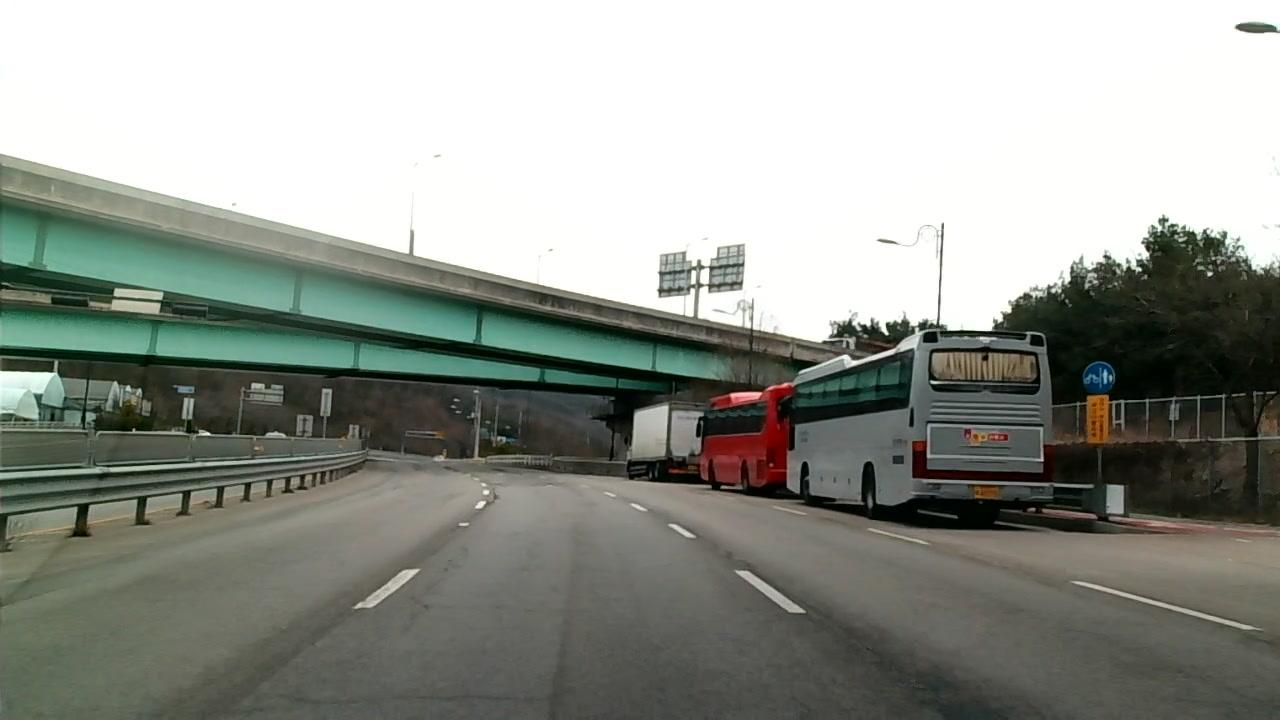hcrack: (272, 692, 550, 703)
vcrack: (857, 638, 968, 720), (732, 549, 842, 630), (403, 557, 460, 634)
